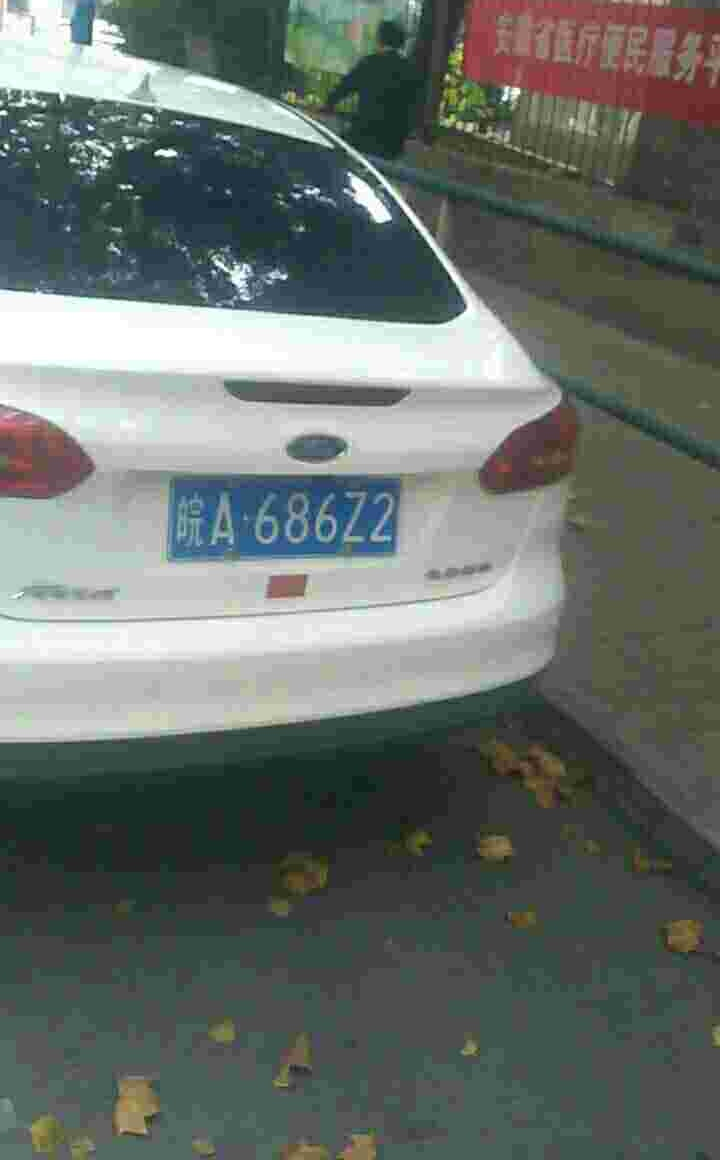license_plate: (176, 482, 411, 552)
